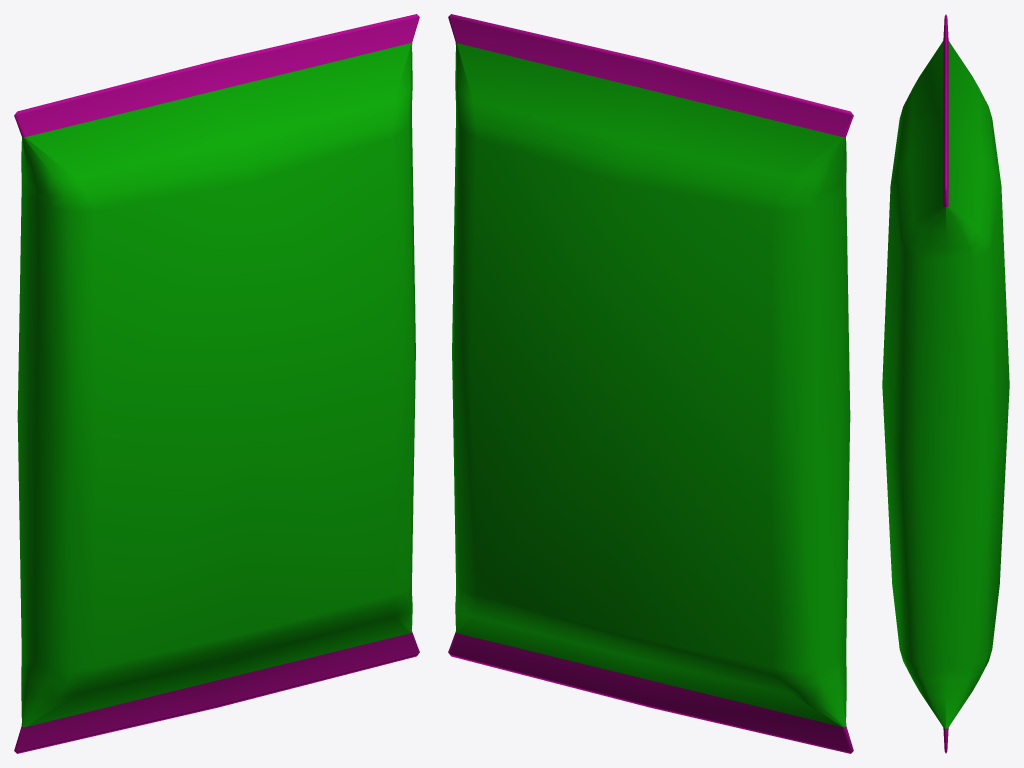
File: Kalguksu noodles.fbx
3 renders of one model, left to right at view 1: azimuth 30°, elevation 25°; view 2: azimuth 150°, elevation 25°; view 3: azimuth 270°, elevation 25°, orthographic. The views are drawn at different scales.
Visible parts, largest first — view 1: ramyeon; view 2: ramyeon; view 3: ramyeon.
Part boxes in pixels (left/top/right/bottom): ramyeon: left=14, top=14, right=419, bottom=753; ramyeon: left=448, top=14, right=853, bottom=753; ramyeon: left=882, top=14, right=1009, bottom=753.
Bounding box in the file's own units: 1.17 × 1.78 × 0.3599.
